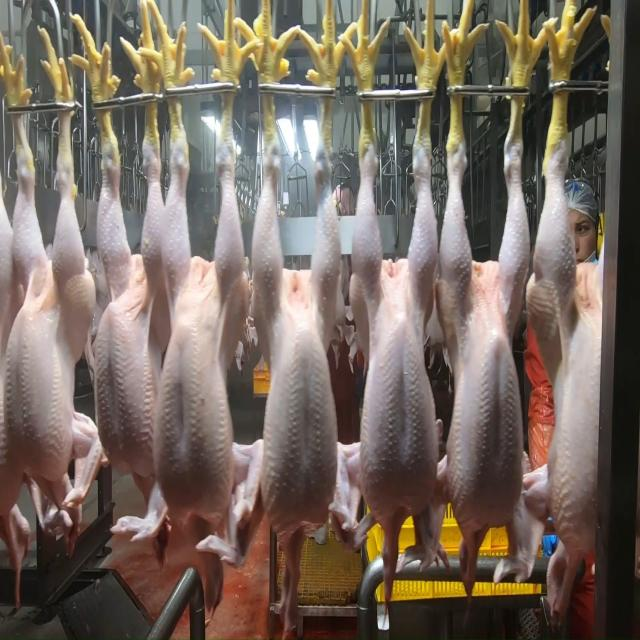chicken: (248, 141, 348, 551), (435, 126, 525, 534), (350, 124, 437, 538), (156, 126, 240, 527), (0, 124, 86, 502), (538, 134, 606, 552), (92, 125, 161, 496)
